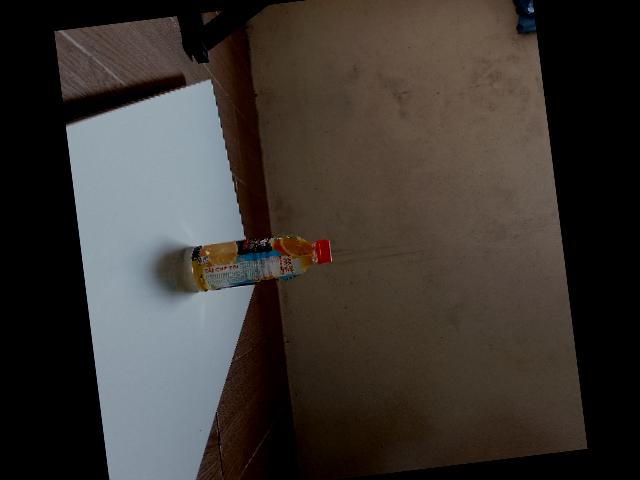teppy_orange_juice: (181, 234, 330, 293)
